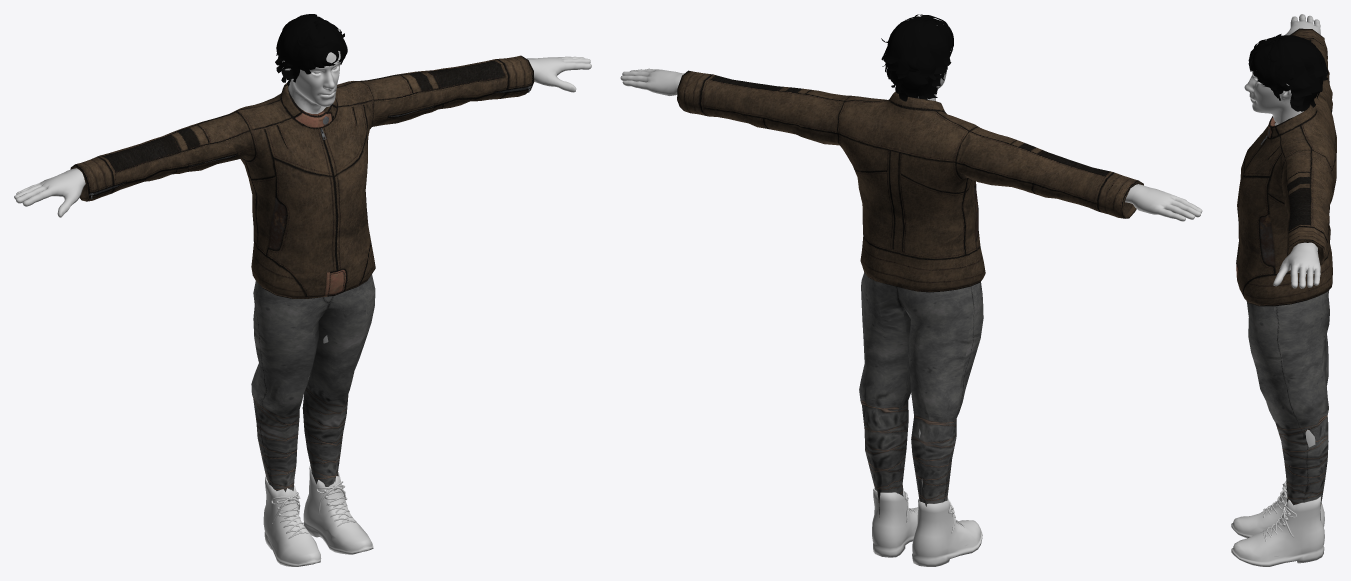
File: fifteenth_clothes_hair.obj
3 views of the same model, side by side, from view 1: azimuth 30°, elevation 25°; view 2: azimuth 150°, elevation 25°; view 3: azimuth 270°, elevation 25° (orthographic). The views are drawn at different scales.
Parts seen in each view (by area): view 1: Tops, Bottoms, Shoes, Body, Hair; view 2: Tops, Bottoms, Shoes, Hair, Body; view 3: Tops, Bottoms, Shoes, Hair, Body.
Boxes of the visible parts, x1,y1,x2,y2 form: Tops: [70, 55, 534, 298]; Bottoms: [251, 274, 375, 491]; Shoes: [263, 465, 373, 566]; Body: [14, 51, 591, 549]; Hair: [275, 14, 347, 86]; Tops: [677, 70, 1143, 292]; Bottoms: [859, 272, 983, 517]; Shoes: [872, 488, 982, 566]; Hair: [881, 14, 953, 101]; Body: [620, 25, 1202, 546]; Tops: [1236, 28, 1336, 306]; Bottoms: [1246, 290, 1329, 520]; Shoes: [1231, 481, 1324, 566]; Hair: [1248, 34, 1328, 111]; Body: [1244, 14, 1320, 556].
Bounding box in the file's own units: 21.36 × 18.73 × 3.52.
